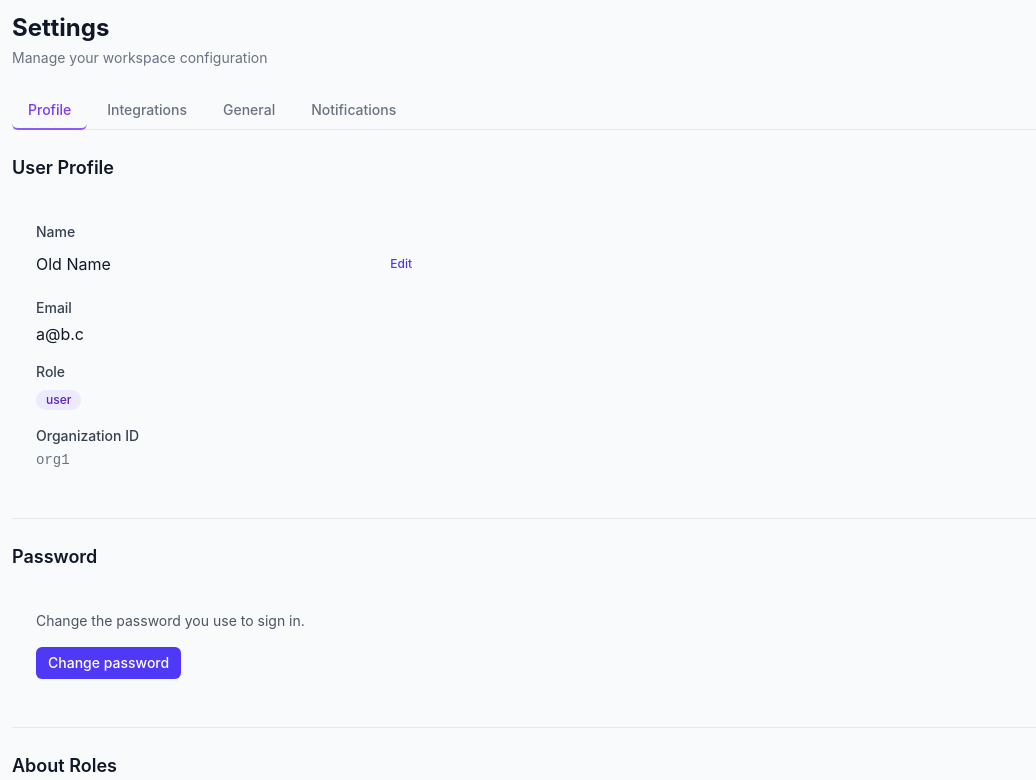
Test: Settings → Profile tab → name editing › returns to rest state and shows the confirmation after a successful name save
The image size is (1036, 780).
Click the button "Edit" at (401, 264), box [382,252,420,276]
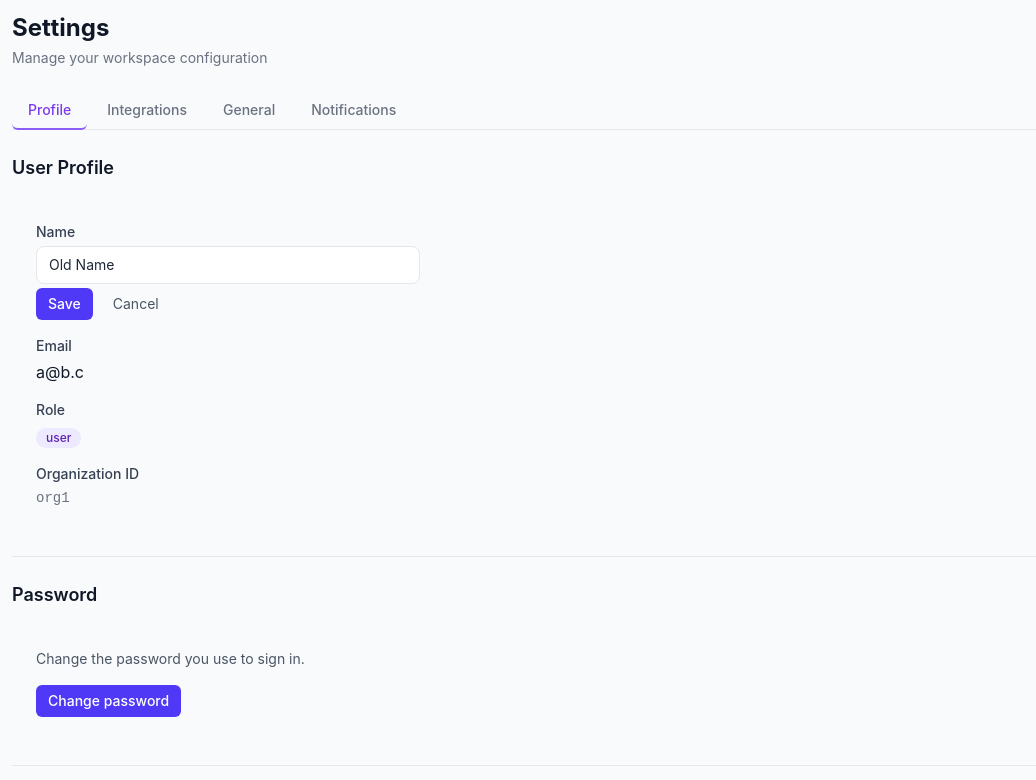
Replace the text in the field labelled "Name" with "New Name" at (228, 265), box [36,246,420,284]
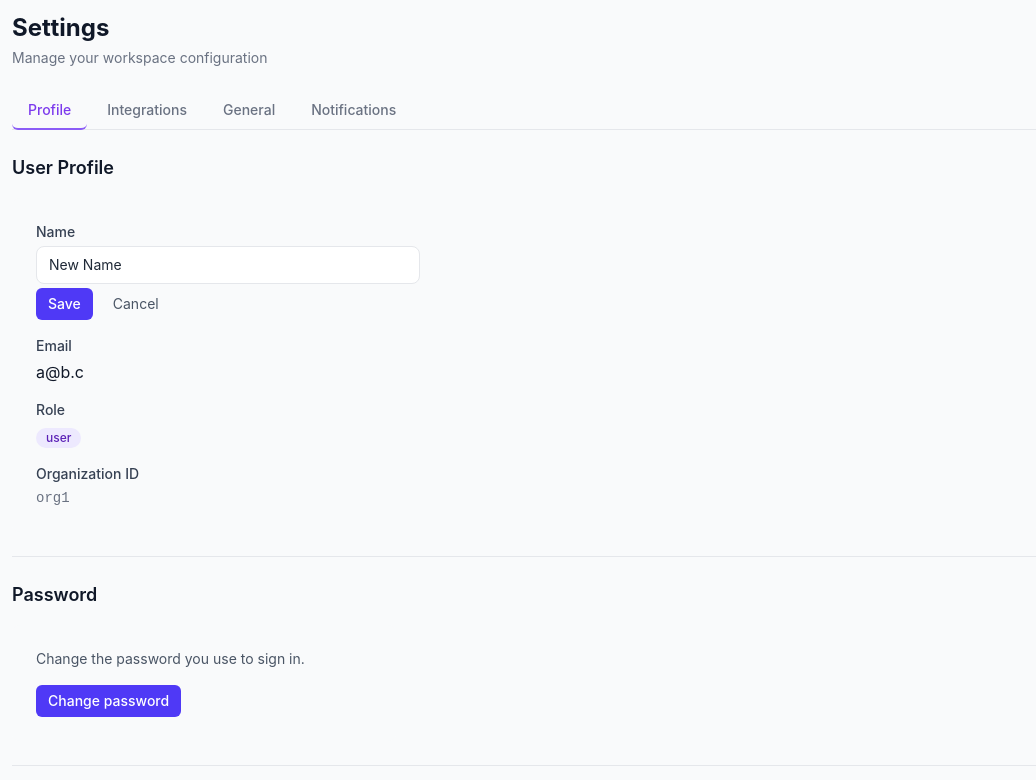
Click the button "Save" at (64, 304), box [36,288,93,320]
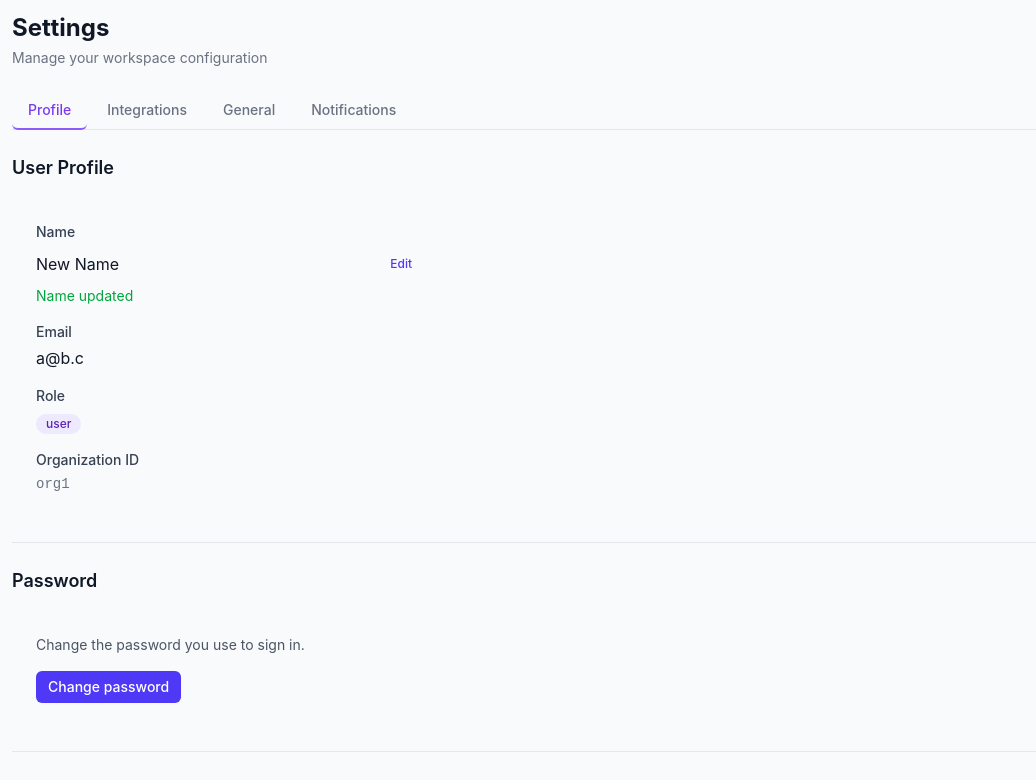
Expected: the text "Name updated" is shown, [36,287,133,304]
Expected: the text "New Name" is shown, [36,252,119,276]
